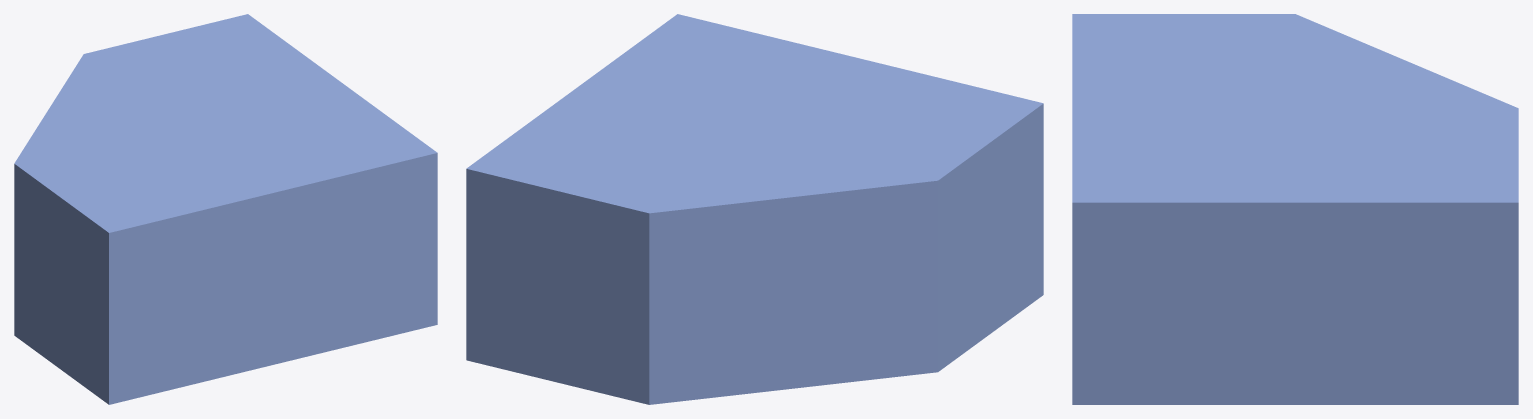
File: assembler2.gltf
3 renders of one model, left to right at view 1: azimuth 30°, elevation 25°; view 2: azimuth 150°, elevation 25°; view 3: azimuth 270°, elevation 25°, orthographic. The views are drawn at different scales.
Parts seen in each view (by area): view 1: Assembler; view 2: Assembler; view 3: Assembler.
Boxes of the visible parts, x1,y1,x2,y2 form: Assembler: (14, 14, 437, 404); Assembler: (466, 14, 1043, 404); Assembler: (1072, 14, 1518, 404).
Size of the model in its own units: 4 by 2 by 4.
